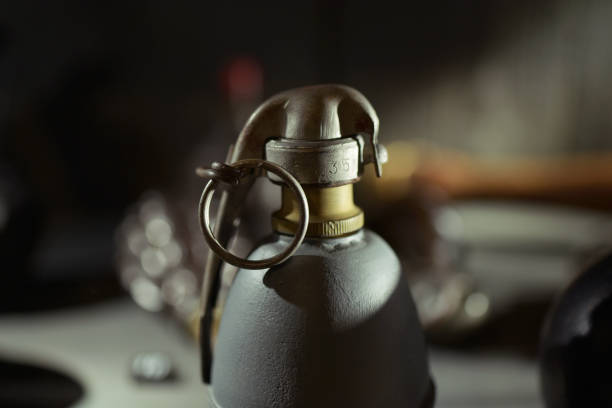e1: (191, 84, 442, 407)
